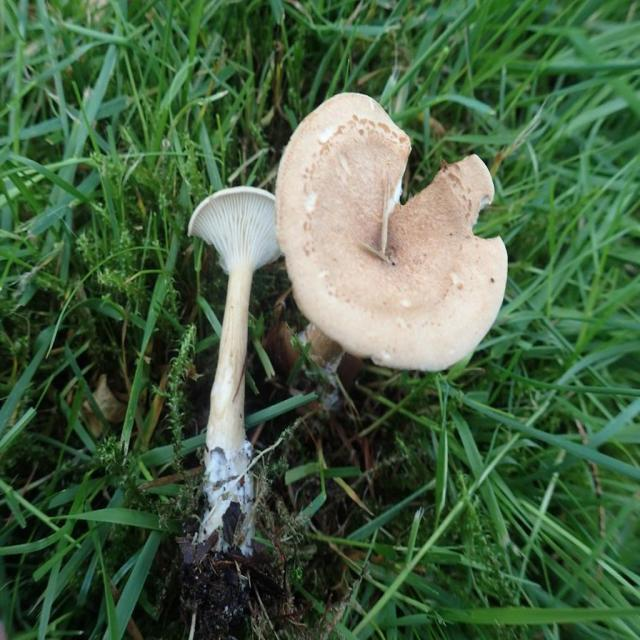Clitocybe maxima: (278, 92, 509, 369), (186, 185, 287, 554)
